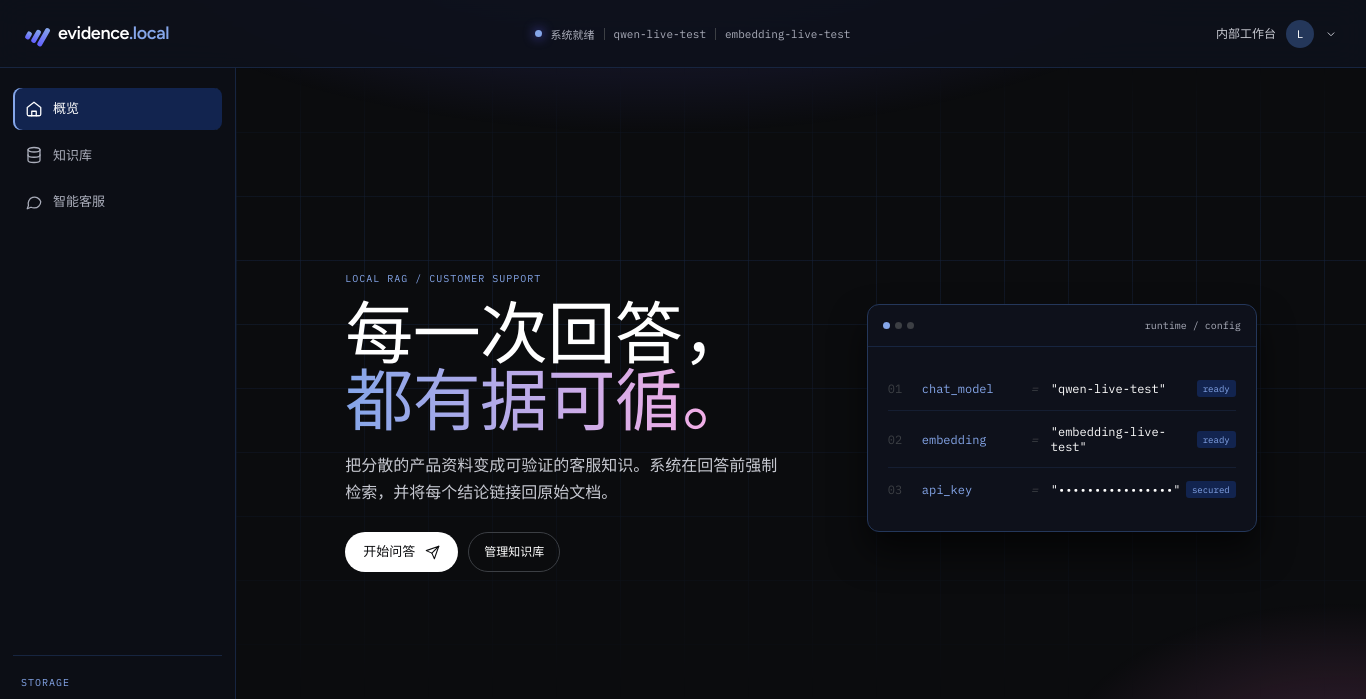
Test: 应用外壳与知识库页面 › 知识库管理单选不会被客服多选状态污染
Expected: the text "\"qwen-live-test\"" is shown, [1051,381,1166,396]
Click the button "智能客服" at (118, 202), box [13,181,222,222]
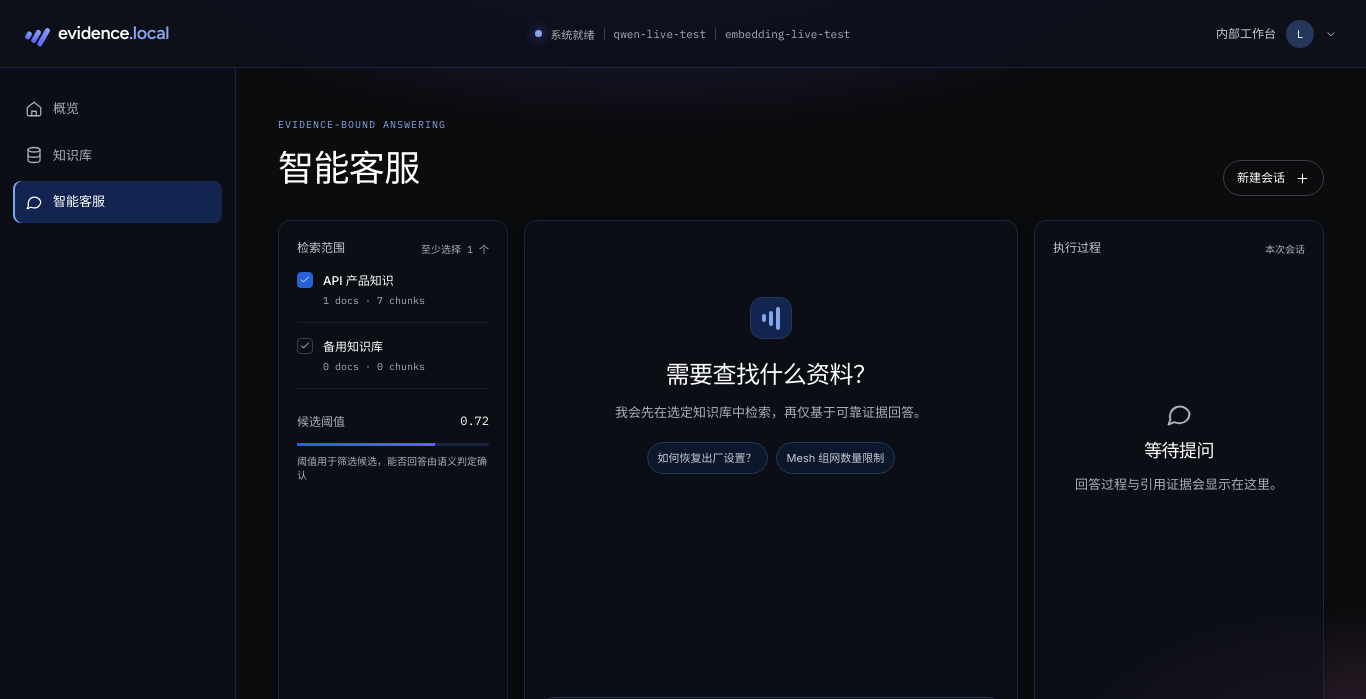
Click the checkbox labelled "备用知识库 0 docs · 0 chunks" at (393, 356), box [297,323,489,389]
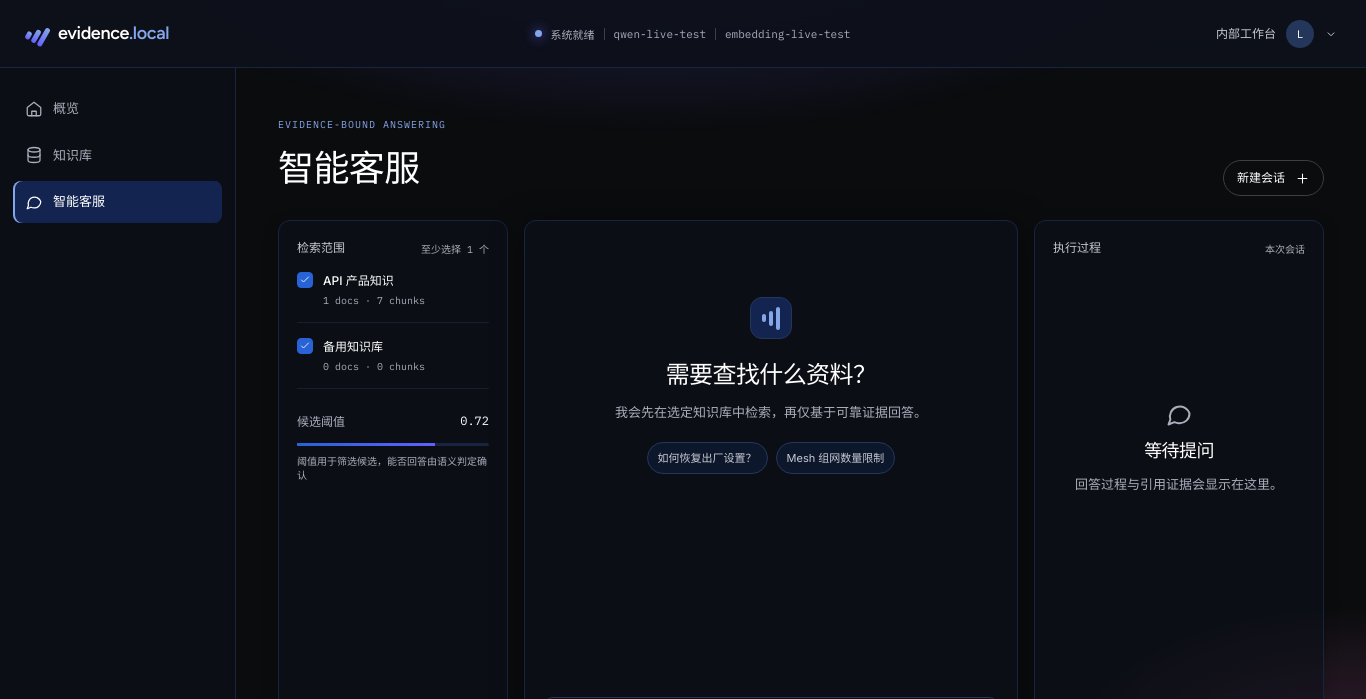
Click the button "知识库" at (118, 155), box [13,134,222,176]
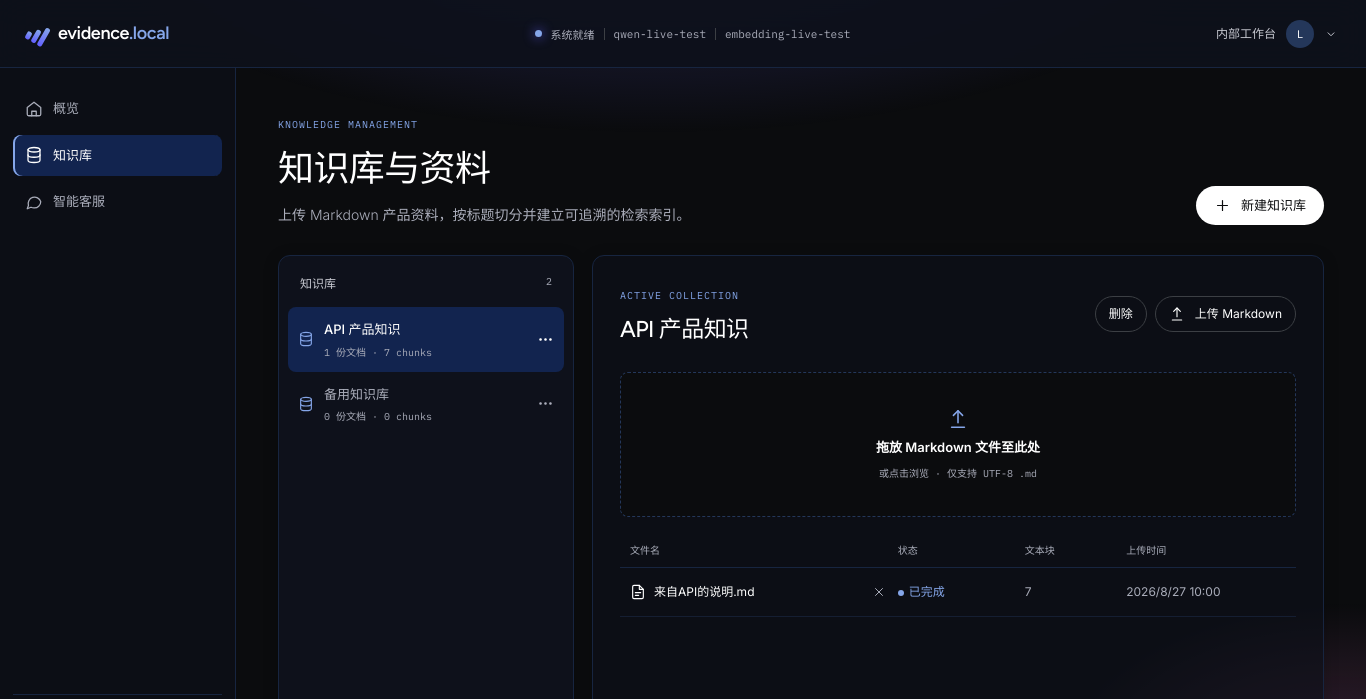
Now the text "来自API的说明.md" is shown, box [630,582,886,600]
Now the number of buttons with class "selected" is 1, box [288,307,564,372]
